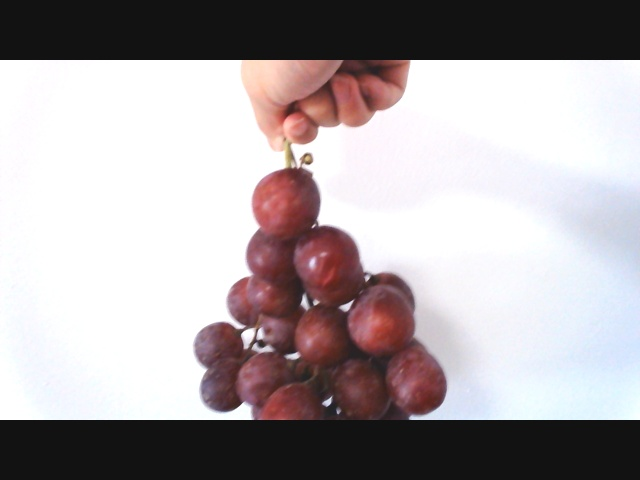grape: (170, 168, 447, 419)
